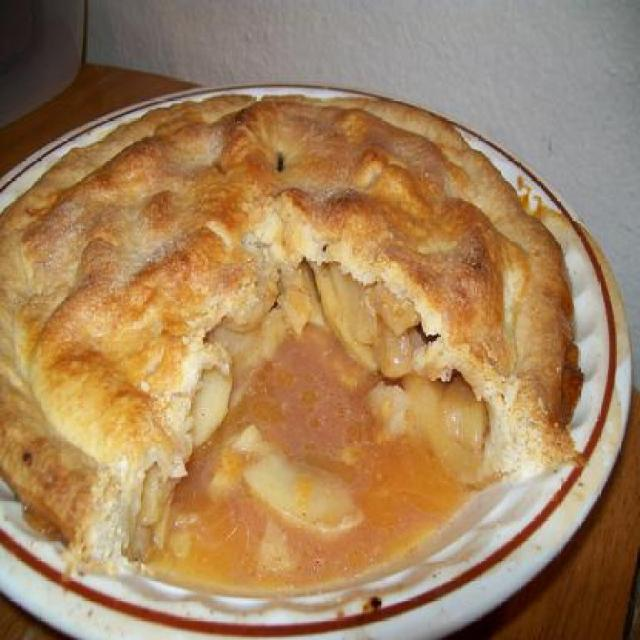Apple: (6, 92, 574, 572)
